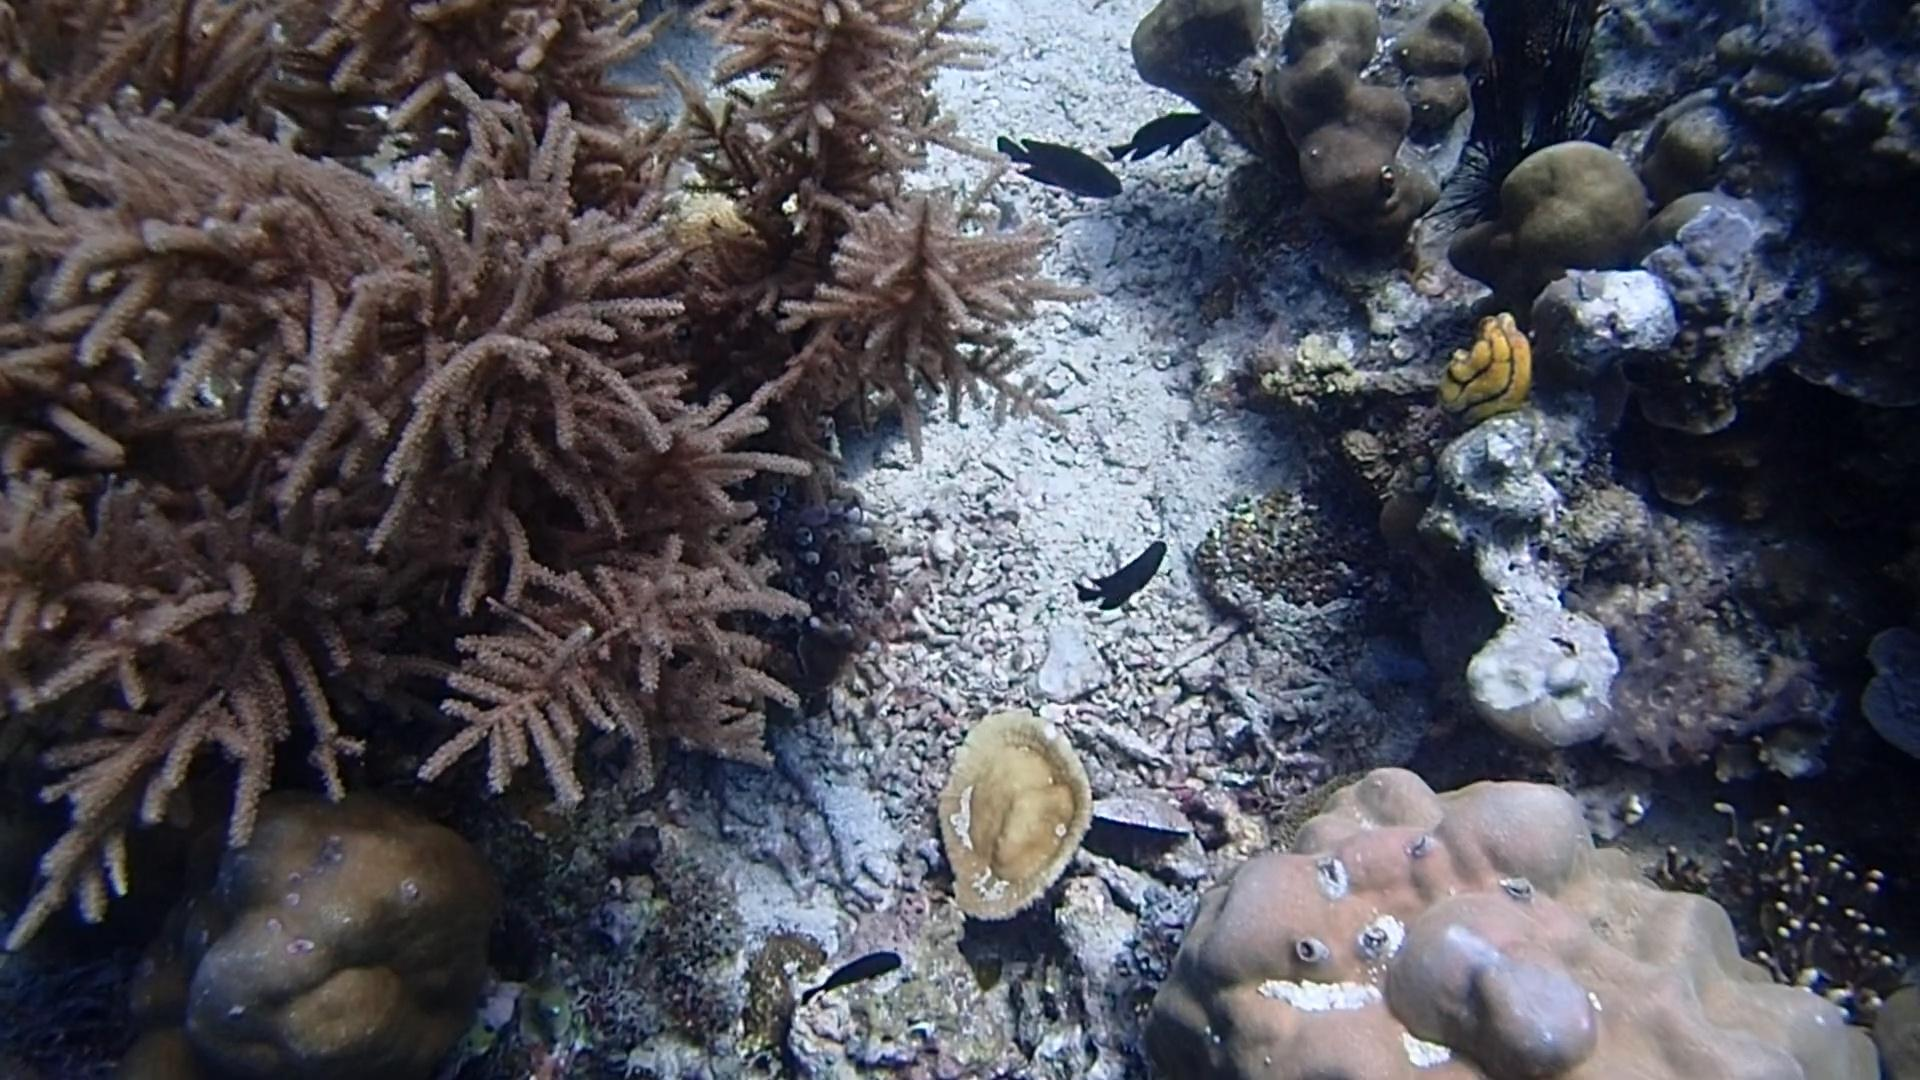Dark Fish: (994, 119, 1130, 210), (1069, 529, 1178, 618), (794, 932, 907, 1005), (1104, 98, 1216, 170)
